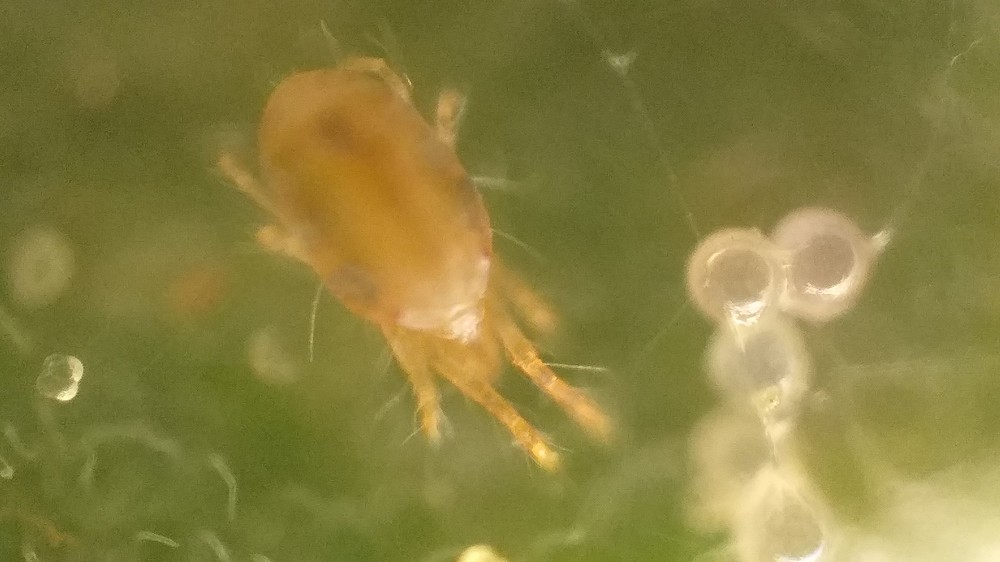Aracnido Rojo: (200, 37, 632, 492)
